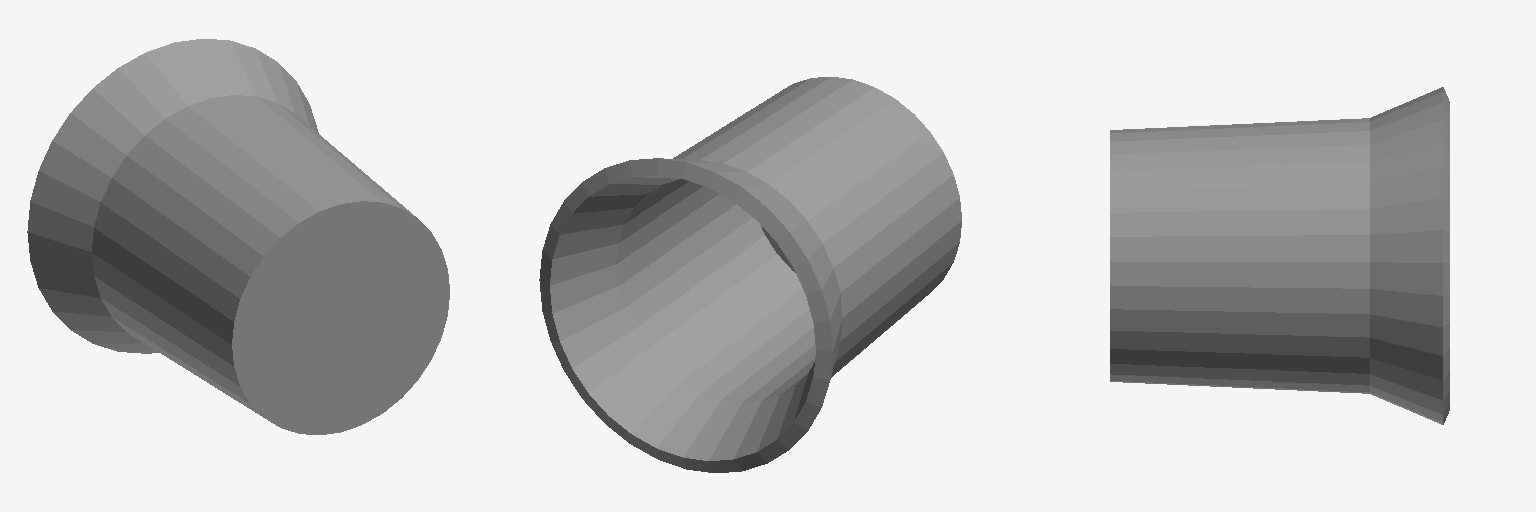
The model's file is cup2.obj.
3 renders of one model, left to right at view 1: azimuth 30°, elevation 25°; view 2: azimuth 150°, elevation 25°; view 3: azimuth 270°, elevation 25°, orthographic.
Parts seen in each view (by area): view 1: Cylinder; view 2: Cylinder; view 3: Cylinder.
Boxes of the visible parts, box(x1,y1,x2,y2) form: Cylinder: box(27, 39, 449, 434); Cylinder: box(539, 77, 961, 472); Cylinder: box(1110, 87, 1449, 424).
Size of the model in its own units: 3.37 by 3.37 by 3.39.